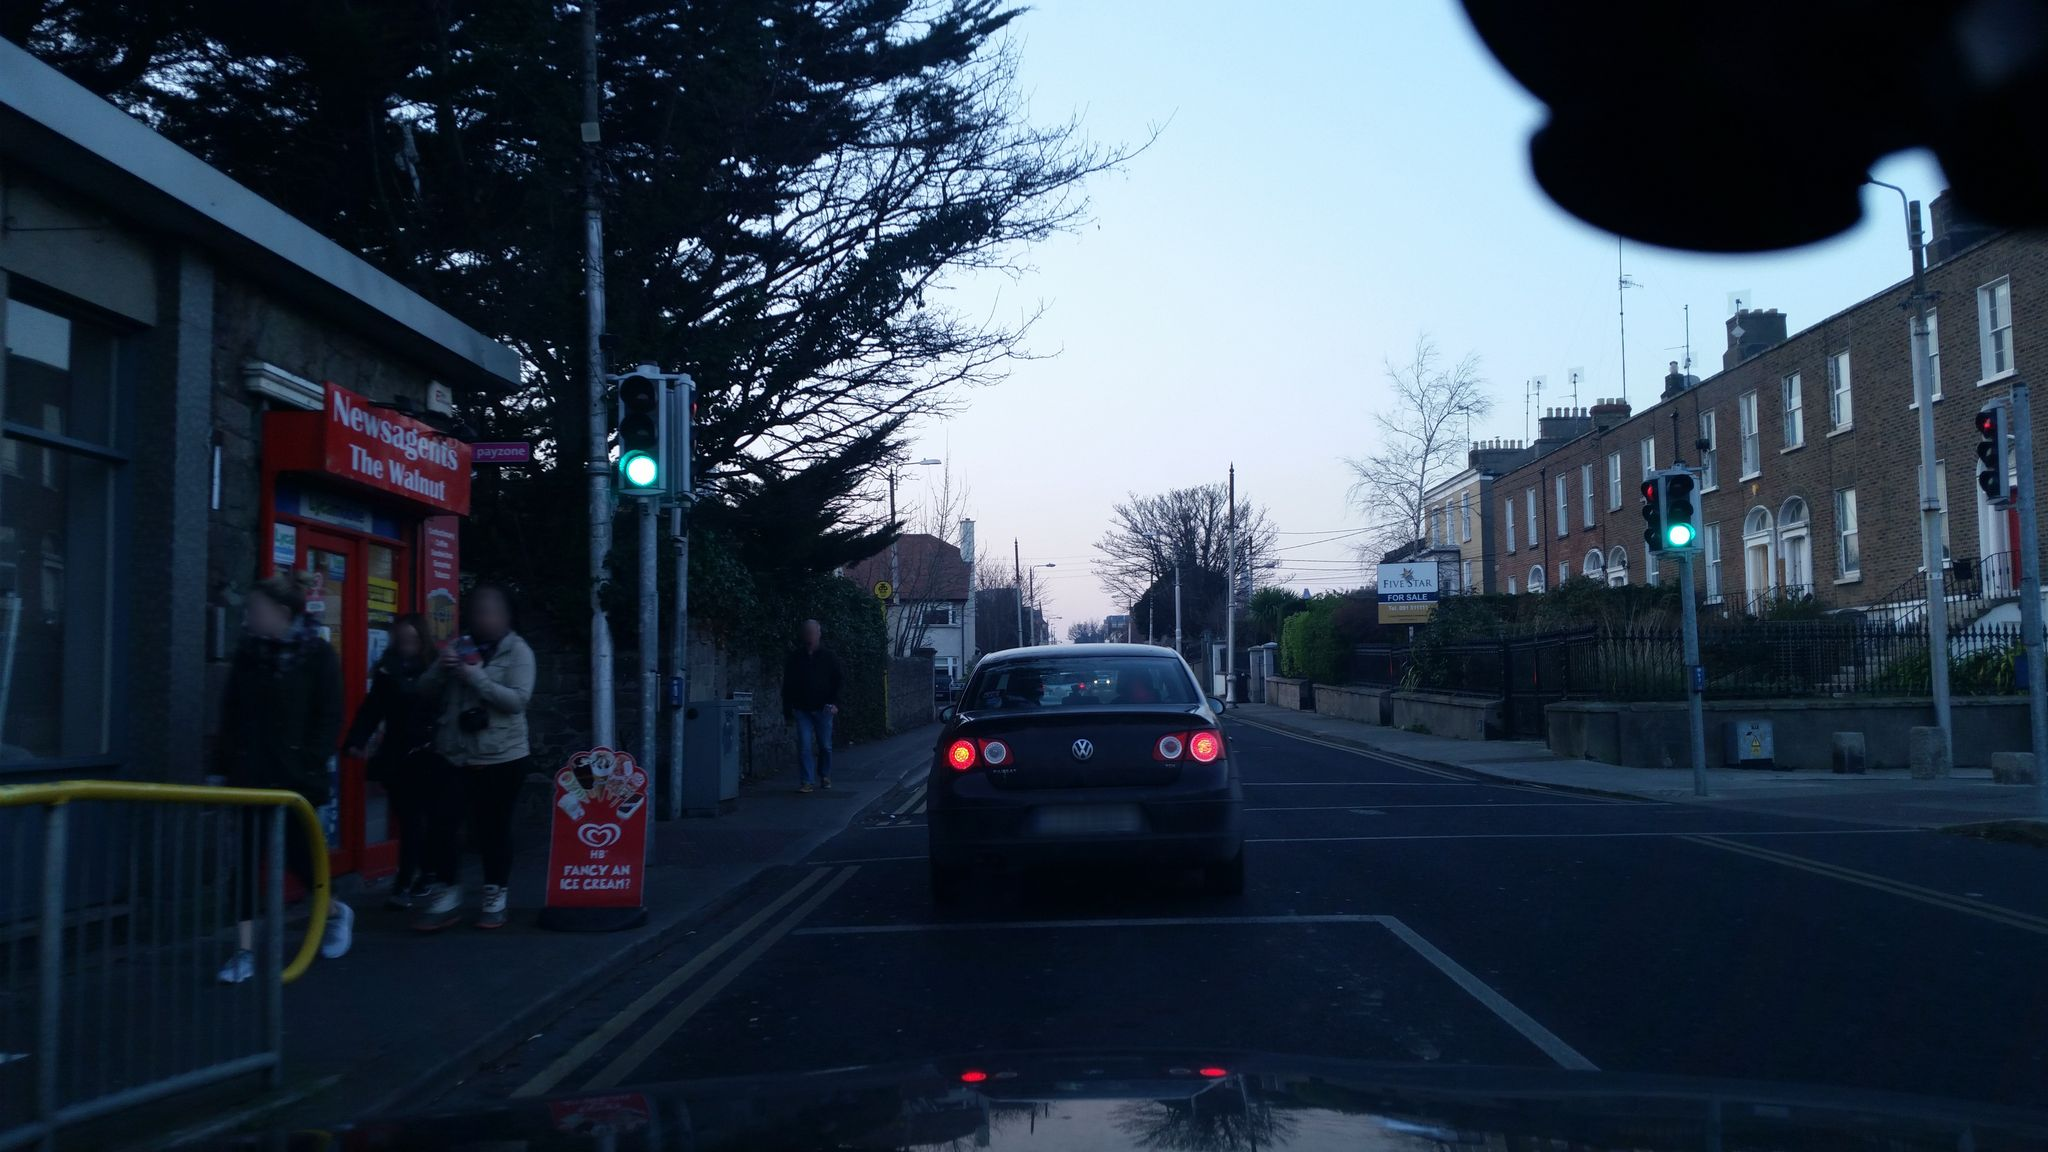property sign: (1367, 550, 1461, 653)
